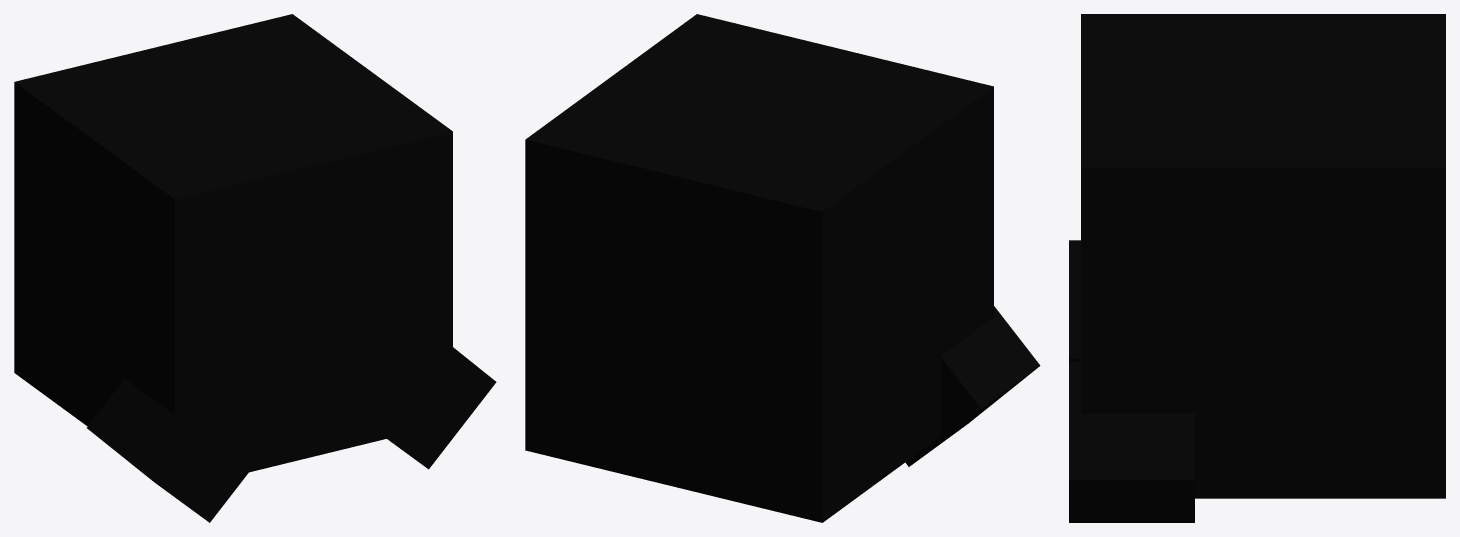
The model's file is hair-0008.gltf.
3 views of the same model, side by side, from view 1: azimuth 30°, elevation 25°; view 2: azimuth 150°, elevation 25°; view 3: azimuth 270°, elevation 25° (orthographic). The views are drawn at different scales.
Parts seen in each view (by area): view 1: hair-0008-extra-geo (×3); view 2: hair-0008-extra-geo (×2); view 3: hair-0008-extra-geo (×3).
Part boxes in pixels (bbox=[...]): hair-0008-extra-geo (×3): bbox=[14, 14, 496, 522]; hair-0008-extra-geo (×2): bbox=[525, 14, 1040, 522]; hair-0008-extra-geo (×3): bbox=[1069, 14, 1445, 522].
Size of the model in its own units: 0.5777 by 0.5089 by 0.468.
Materials: 1 (1 with a texture image).
